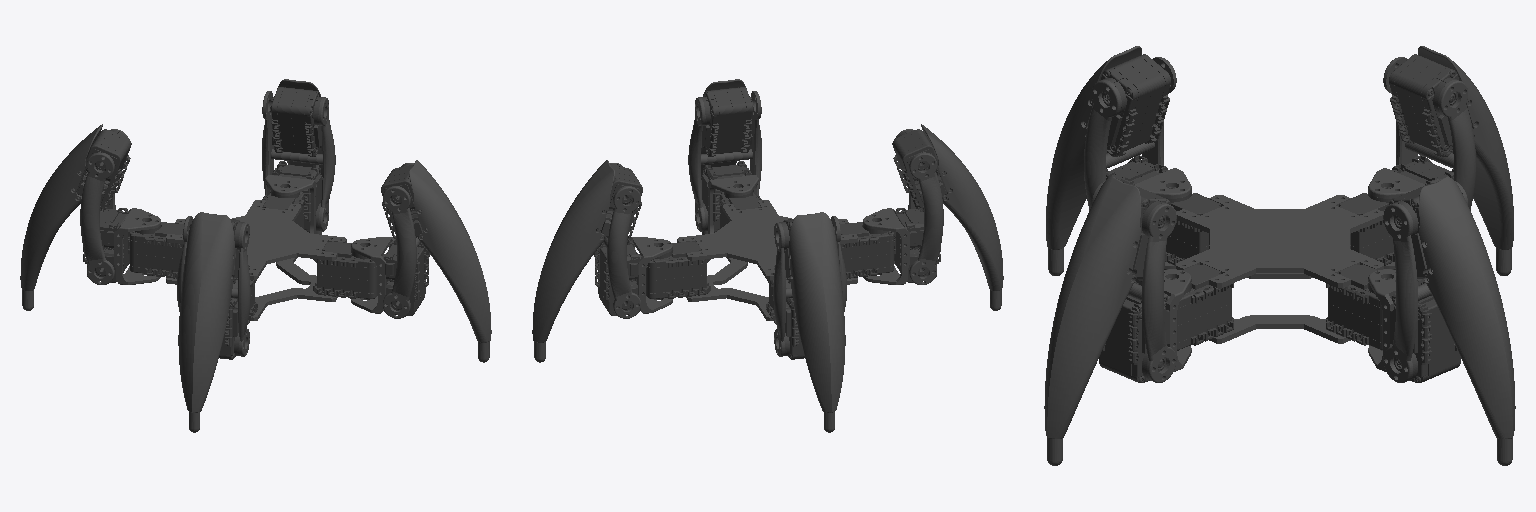
--- Render facts (derived) ---
Views: 3 orthographic renders of the robot side by side, from view 1: azimuth 30°, elevation 25°; view 2: azimuth 150°, elevation 25°; view 3: azimuth 270°, elevation 25°.
Robot: quadrapod — 30 links, 29 joints (12 revolute, 17 fixed); root link base_link; default pose: all joints at 0.
Links seen in each view (by area): view 1: tibia_v3_4, tibia_v3_3, tibia_v3_2, top_plate_v3_1, ax12a_v2_3, ax12a_v2_7, femur_v3_2, femur_v3_1, femur_v3_3, ax12a_v2_4, femur_v3_4, ax12a_v2_6 (+10 smaller); view 2: tibia_v3_2, tibia_v3_1, tibia_v3_4, top_plate_v3_1, ax12a_v2_9, ax12a_v2_1, femur_v3_4, femur_v3_3, femur_v3_1, ax12a_v2_10, femur_v3_2, ax12a_v2_12 (+10 smaller); view 3: tibia_v3_3, tibia_v3_1, top_plate_v3_1, tibia_v3_4, tibia_v3_2, ax12a_v2_6, ax12a_v2_12, femur_v3_1, femur_v3_3, femur_v3_2, femur_v3_4, ax12a_v2_1 (+14 smaller).
Boxes of the visible links, left/top/right/bottom form: tibia_v3_4: left=178, top=212, right=234, bottom=432; tibia_v3_3: left=409, top=160, right=491, bottom=362; tibia_v3_2: left=20, top=124, right=102, bottom=310; top_plate_v3_1: left=166, top=200, right=346, bottom=279; ax12a_v2_3: left=270, top=87, right=322, bottom=156; ax12a_v2_7: left=313, top=241, right=377, bottom=298; femur_v3_2: left=80, top=129, right=128, bottom=284; femur_v3_1: left=262, top=91, right=335, bottom=231; femur_v3_3: left=383, top=163, right=429, bottom=318; ax12a_v2_4: left=130, top=221, right=183, bottom=278; femur_v3_4: left=177, top=216, right=250, bottom=356; ax12a_v2_6: left=73, top=129, right=131, bottom=208; tibia_v3_2: left=789, top=212, right=845, bottom=432; tibia_v3_1: left=532, top=160, right=614, bottom=362; tibia_v3_4: left=921, top=124, right=1003, bottom=310; top_plate_v3_1: left=677, top=200, right=857, bottom=279; ax12a_v2_9: left=701, top=87, right=753, bottom=156; ax12a_v2_1: left=646, top=241, right=710, bottom=298; femur_v3_4: left=895, top=129, right=943, bottom=284; femur_v3_3: left=688, top=91, right=761, bottom=231; femur_v3_1: left=594, top=163, right=640, bottom=318; ax12a_v2_10: left=840, top=221, right=893, bottom=278; femur_v3_2: left=773, top=216, right=846, bottom=356; ax12a_v2_12: left=892, top=129, right=950, bottom=208; tibia_v3_3: left=1044, top=177, right=1140, bottom=465; tibia_v3_1: left=1419, top=177, right=1515, bottom=465; top_plate_v3_1: left=1176, top=195, right=1383, bottom=287; tibia_v3_4: left=1046, top=46, right=1141, bottom=275; tibia_v3_2: left=1418, top=46, right=1513, bottom=275; ax12a_v2_6: left=1389, top=54, right=1474, bottom=156; ax12a_v2_12: left=1085, top=54, right=1170, bottom=156; femur_v3_1: left=1383, top=181, right=1467, bottom=382; femur_v3_3: left=1092, top=181, right=1176, bottom=382; femur_v3_2: left=1383, top=57, right=1475, bottom=210; femur_v3_4: left=1084, top=57, right=1176, bottom=210; ax12a_v2_1: left=1326, top=264, right=1391, bottom=349.
Bounding box of the posed robot: 0.2691 × 0.2698 × 0.1607 m (x, y, z).
26 mesh visuals loaded from 26 distinct referenced files (26 binary STL).

The robot description file, URDF, robot "quadrapod":
<?xml version="1.0" ?>
<!-- =================================================================================== -->
<!-- |    This document was autogenerated by xacro from quadrapod.xacro                | -->
<!-- |    EDITING THIS FILE BY HAND IS NOT RECOMMENDED                                 | -->
<!-- =================================================================================== -->
<robot name="quadrapod">
  <material name="silver_default">
    <color rgba="0.700 0.700 0.700 1.000"/>
  </material>
  <material name="powder_coat_dark_grey">
    <color rgba="0.34901960784313724 0.34901960784313724 0.34901960784313724 1.0"/>
  </material>
  <material name="glossy_black">
    <color rgba="0.3137254901960784 0.3137254901960784 0.3137254901960784 1.0"/>
  </material>
  <material name="abs_white">
    <color rgba="0.9647058823529412 0.9647058823529412 0.9529411764705882 1.0"/>
  </material>
  <transmission name="coxa1_tran">
    <type>transmission_interface/SimpleTransmission</type>
    <joint name="coxa1">
      <hardwareInterface>hardware_interface/EffortJointInterface</hardwareInterface>
    </joint>
    <actuator name="coxa1_actr">
      <hardwareInterface>hardware_interface/EffortJointInterface</hardwareInterface>
      <mechanicalReduction>1</mechanicalReduction>
    </actuator>
  </transmission>
  <transmission name="femur1_tran">
    <type>transmission_interface/SimpleTransmission</type>
    <joint name="femur1">
      <hardwareInterface>hardware_interface/EffortJointInterface</hardwareInterface>
    </joint>
    <actuator name="femur1_actr">
      <hardwareInterface>hardware_interface/EffortJointInterface</hardwareInterface>
      <mechanicalReduction>1</mechanicalReduction>
    </actuator>
  </transmission>
  <transmission name="tibia1_tran">
    <type>transmission_interface/SimpleTransmission</type>
    <joint name="tibia1">
      <hardwareInterface>hardware_interface/EffortJointInterface</hardwareInterface>
    </joint>
    <actuator name="tibia1_actr">
      <hardwareInterface>hardware_interface/EffortJointInterface</hardwareInterface>
      <mechanicalReduction>1</mechanicalReduction>
    </actuator>
  </transmission>
  <transmission name="coxa2_tran">
    <type>transmission_interface/SimpleTransmission</type>
    <joint name="coxa2">
      <hardwareInterface>hardware_interface/EffortJointInterface</hardwareInterface>
    </joint>
    <actuator name="coxa2_actr">
      <hardwareInterface>hardware_interface/EffortJointInterface</hardwareInterface>
      <mechanicalReduction>1</mechanicalReduction>
    </actuator>
  </transmission>
  <transmission name="femur2_tran">
    <type>transmission_interface/SimpleTransmission</type>
    <joint name="femur2">
      <hardwareInterface>hardware_interface/EffortJointInterface</hardwareInterface>
    </joint>
    <actuator name="femur2_actr">
      <hardwareInterface>hardware_interface/EffortJointInterface</hardwareInterface>
      <mechanicalReduction>1</mechanicalReduction>
    </actuator>
  </transmission>
  <transmission name="tibia2_tran">
    <type>transmission_interface/SimpleTransmission</type>
    <joint name="tibia2">
      <hardwareInterface>hardware_interface/EffortJointInterface</hardwareInterface>
    </joint>
    <actuator name="tibia2_actr">
      <hardwareInterface>hardware_interface/EffortJointInterface</hardwareInterface>
      <mechanicalReduction>1</mechanicalReduction>
    </actuator>
  </transmission>
  <transmission name="coxa3_tran">
    <type>transmission_interface/SimpleTransmission</type>
    <joint name="coxa3">
      <hardwareInterface>hardware_interface/EffortJointInterface</hardwareInterface>
    </joint>
    <actuator name="coxa3_actr">
      <hardwareInterface>hardware_interface/EffortJointInterface</hardwareInterface>
      <mechanicalReduction>1</mechanicalReduction>
    </actuator>
  </transmission>
  <transmission name="femur3_tran">
    <type>transmission_interface/SimpleTransmission</type>
    <joint name="femur3">
      <hardwareInterface>hardware_interface/EffortJointInterface</hardwareInterface>
    </joint>
    <actuator name="femur3_actr">
      <hardwareInterface>hardware_interface/EffortJointInterface</hardwareInterface>
      <mechanicalReduction>1</mechanicalReduction>
    </actuator>
  </transmission>
  <transmission name="tibia3_tran">
    <type>transmission_interface/SimpleTransmission</type>
    <joint name="tibia3">
      <hardwareInterface>hardware_interface/EffortJointInterface</hardwareInterface>
    </joint>
    <actuator name="tibia3_actr">
      <hardwareInterface>hardware_interface/EffortJointInterface</hardwareInterface>
      <mechanicalReduction>1</mechanicalReduction>
    </actuator>
  </transmission>
  <transmission name="coxa4_tran">
    <type>transmission_interface/SimpleTransmission</type>
    <joint name="coxa4">
      <hardwareInterface>hardware_interface/EffortJointInterface</hardwareInterface>
    </joint>
    <actuator name="coxa4_actr">
      <hardwareInterface>hardware_interface/EffortJointInterface</hardwareInterface>
      <mechanicalReduction>1</mechanicalReduction>
    </actuator>
  </transmission>
  <transmission name="femur4_tran">
    <type>transmission_interface/SimpleTransmission</type>
    <joint name="femur4">
      <hardwareInterface>hardware_interface/EffortJointInterface</hardwareInterface>
    </joint>
    <actuator name="femur4_actr">
      <hardwareInterface>hardware_interface/EffortJointInterface</hardwareInterface>
      <mechanicalReduction>1</mechanicalReduction>
    </actuator>
  </transmission>
  <transmission name="tibia4_tran">
    <type>transmission_interface/SimpleTransmission</type>
    <joint name="tibia4">
      <hardwareInterface>hardware_interface/EffortJointInterface</hardwareInterface>
    </joint>
    <actuator name="tibia4_actr">
      <hardwareInterface>hardware_interface/EffortJointInterface</hardwareInterface>
      <mechanicalReduction>1</mechanicalReduction>
    </actuator>
  </transmission>
  <!-- updated from fusion2urdf -->
  <gazebo>
    <plugin filename="libgazebo_ros_control.so" name="gazebo_ros_control">
      <robotNamespace>/quadrapod</robotNamespace>
    </plugin>
  </gazebo>
  <gazebo reference="base_link">
    <material>Gazebo/Silver</material>
    <mu1>0.2</mu1>
    <mu2>0.2</mu2>
    <selfCollide>true</selfCollide>
    <gravity>true</gravity>
  </gazebo>
  <gazebo reference="ax12a_v2_1">
    <material>Gazebo/Silver</material>
    <mu1>0.2</mu1>
    <mu2>0.2</mu2>
    <selfCollide>true</selfCollide>
  </gazebo>
  <gazebo reference="top_plate_v3_1">
    <material>Gazebo/Silver</material>
    <mu1>0.2</mu1>
    <mu2>0.2</mu2>
    <selfCollide>true</selfCollide>
  </gazebo>
  <gazebo reference="coxa_v3_1">
    <material>Gazebo/Silver</material>
    <mu1>0.2</mu1>
    <mu2>0.2</mu2>
    <selfCollide>true</selfCollide>
  </gazebo>
  <gazebo reference="ax12a_v2_2">
    <material>Gazebo/Silver</material>
    <mu1>0.2</mu1>
    <mu2>0.2</mu2>
    <selfCollide>true</selfCollide>
  </gazebo>
  <gazebo reference="femur_v3_1">
    <material>Gazebo/Silver</material>
    <mu1>0.2</mu1>
    <mu2>0.2</mu2>
    <selfCollide>true</selfCollide>
  </gazebo>
  <gazebo reference="ax12a_v2_3">
    <material>Gazebo/Silver</material>
    <mu1>0.2</mu1>
    <mu2>0.2</mu2>
    <selfCollide>true</selfCollide>
  </gazebo>
  <gazebo reference="tibia_v3_1">
    <material>Gazebo/Silver</material>
    <mu1>0.2</mu1>
    <mu2>0.2</mu2>
    <selfCollide>true</selfCollide>
  </gazebo>
  <gazebo reference="ax12a_v2_4">
    <material>Gazebo/Silver</material>
    <mu1>0.2</mu1>
    <mu2>0.2</mu2>
    <selfCollide>true</selfCollide>
  </gazebo>
  <gazebo reference="coxa_v3_2">
    <material>Gazebo/Silver</material>
    <mu1>0.2</mu1>
    <mu2>0.2</mu2>
    <selfCollide>true</selfCollide>
  </gazebo>
  <gazebo reference="ax12a_v2_5">
    <material>Gazebo/Silver</material>
    <mu1>0.2</mu1>
    <mu2>0.2</mu2>
    <selfCollide>true</selfCollide>
  </gazebo>
  <gazebo reference="femur_v3_2">
    <material>Gazebo/Silver</material>
    <mu1>0.2</mu1>
    <mu2>0.2</mu2>
    <selfCollide>true</selfCollide>
  </gazebo>
  <gazebo reference="ax12a_v2_6">
    <material>Gazebo/Silver</material>
    <mu1>0.2</mu1>
    <mu2>0.2</mu2>
    <selfCollide>true</selfCollide>
  </gazebo>
  <gazebo reference="tibia_v3_2">
    <material>Gazebo/Silver</material>
    <mu1>0.2</mu1>
    <mu2>0.2</mu2>
    <selfCollide>true</selfCollide>
  </gazebo>
  <gazebo reference="ax12a_v2_7">
    <material>Gazebo/Silver</material>
    <mu1>0.2</mu1>
    <mu2>0.2</mu2>
    <selfCollide>true</selfCollide>
  </gazebo>
  <gazebo reference="coxa_v3_3">
    <material>Gazebo/Silver</material>
    <mu1>0.2</mu1>
    <mu2>0.2</mu2>
    <selfCollide>true</selfCollide>
  </gazebo>
  <gazebo reference="ax12a_v2_8">
    <material>Gazebo/Silver</material>
    <mu1>0.2</mu1>
    <mu2>0.2</mu2>
    <selfCollide>true</selfCollide>
  </gazebo>
  <gazebo reference="femur_v3_3">
    <material>Gazebo/Silver</material>
    <mu1>0.2</mu1>
    <mu2>0.2</mu2>
    <selfCollide>true</selfCollide>
  </gazebo>
  <gazebo reference="ax12a_v2_9">
    <material>Gazebo/Silver</material>
    <mu1>0.2</mu1>
    <mu2>0.2</mu2>
    <selfCollide>true</selfCollide>
  </gazebo>
  <gazebo reference="tibia_v3_3">
    <material>Gazebo/Silver</material>
    <mu1>0.2</mu1>
    <mu2>0.2</mu2>
    <selfCollide>true</selfCollide>
  </gazebo>
  <gazebo reference="ax12a_v2_10">
    <material>Gazebo/Silver</material>
    <mu1>0.2</mu1>
    <mu2>0.2</mu2>
    <selfCollide>true</selfCollide>
  </gazebo>
  <gazebo reference="coxa_v3_4">
    <material>Gazebo/Silver</material>
    <mu1>0.2</mu1>
    <mu2>0.2</mu2>
    <selfCollide>true</selfCollide>
  </gazebo>
  <gazebo reference="ax12a_v2_11">
    <material>Gazebo/Silver</material>
    <mu1>0.2</mu1>
    <mu2>0.2</mu2>
    <selfCollide>true</selfCollide>
  </gazebo>
  <gazebo reference="femur_v3_4">
    <material>Gazebo/Silver</material>
    <mu1>0.2</mu1>
    <mu2>0.2</mu2>
    <selfCollide>true</selfCollide>
  </gazebo>
  <gazebo reference="ax12a_v2_12">
    <material>Gazebo/Silver</material>
    <mu1>0.2</mu1>
    <mu2>0.2</mu2>
    <selfCollide>true</selfCollide>
  </gazebo>
  <gazebo reference="tibia_v3_4">
    <material>Gazebo/Silver</material>
    <mu1>0.2</mu1>
    <mu2>0.2</mu2>
    <selfCollide>true</selfCollide>
  </gazebo>
  <!-- Used for fixing robot to Gazebo 'base_link'

<link name="world"/>

<joint name="fixed" type="fixed">
  <origin rpy="0 0 0" xyz="0.0 0.0 0.5"/>
  <parent link="world"/>
  <child link="base_link"/>
</joint>

-->
  <!-- tibia tip end effector -->
  <link name="tibia_eef_1"/>
  <joint name="dummy_eef1" type="fixed">
    <parent link="tibia_v3_1"/>
    <child link="tibia_eef_1"/>
    <origin rpy="0 0 0" xyz="0.019893 0.043227 -0.108724"/>
  </joint>
  <link name="tibia_eef_2"/>
  <joint name="dummy_eef2" type="fixed">
    <parent link="tibia_v3_2"/>
    <child link="tibia_eef_2"/>
    <origin rpy="0 0 0" xyz="-0.043227 0.019893 -0.108724"/>
  </joint>
  <link name="tibia_eef_3"/>
  <joint name="dummy_eef3" type="fixed">
    <parent link="tibia_v3_3"/>
    <child link="tibia_eef_3"/>
    <origin rpy="0 0 0" xyz="0.019893 -0.043227 -0.108724"/>
  </joint>
  <link name="tibia_eef_4"/>
  <joint name="dummy_eef4" type="fixed">
    <parent link="tibia_v3_4"/>
    <child link="tibia_eef_4"/>
    <origin rpy="0 0 0" xyz="-0.043227 -0.019893 -0.108724"/>
  </joint>
  <!-- end of tibia tip end effector -->
  <link name="base_link">
    <inertial>
      <origin rpy="0 0 0" xyz="-3.131527398141724e-15 6.504656316614858e-17 0.0015874999999999993"/>
      <mass value="0.016210624643989514"/>
      <inertia ixx="1.8e-05" ixy="0.0" ixz="0.0" iyy="1.8e-05" iyz="-0.0" izz="3.6e-05"/>
    </inertial>
    <visual>
      <origin rpy="0 0 0" xyz="0 0 0"/>
      <geometry>
        <mesh filename="package://quadrapod_description/meshes/base_link.stl" scale="0.001 0.001 0.001"/>
      </geometry>
      <material name="powder_coat_dark_grey"/>
    </visual>
    <collision>
      <origin rpy="0 0 0" xyz="0 0 0"/>
      <geometry>
        <mesh filename="package://quadrapod_description/meshes/base_link.stl" scale="0.001 0.001 0.001"/>
      </geometry>
    </collision>
  </link>
  <link name="ax12a_v2_1">
    <inertial>
      <origin rpy="0 0 0" xyz="0.003358172989370682 0.02244916197825437 0.017128126001392945"/>
      <mass value="0.04556894168228744"/>
      <inertia ixx="1e-05" ixy="-3e-06" ixz="-0.0" iyy="1e-05" iyz="-0.0" izz="1.1e-05"/>
    </inertial>
    <visual>
      <origin rpy="0 0 0" xyz="-0.049405 -0.030313 -0.003175"/>
      <geometry>
        <mesh filename="package://quadrapod_description/meshes/ax12a_v2_1.stl" scale="0.001 0.001 0.001"/>
      </geometry>
      <material name="glossy_black"/>
    </visual>
    <collision>
      <origin rpy="0 0 0" xyz="-0.049405 -0.030313 -0.003175"/>
      <geometry>
        <mesh filename="package://quadrapod_description/meshes/ax12a_v2_1.stl" scale="0.001 0.001 0.001"/>
      </geometry>
    </collision>
  </link>
  <link name="top_plate_v3_1">
    <inertial>
      <origin rpy="0 0 0" xyz="-0.04940500000000193 -0.030313000000000093 0.0015874999999999986"/>
      <mass value="0.02791137131716288"/>
      <inertia ixx="2.2e-05" ixy="-0.0" ixz="-0.0" iyy="2.2e-05" iyz="-0.0" izz="4.3e-05"/>
    </inertial>
    <visual>
      <origin rpy="0 0 0" xyz="-0.049405 -0.030313 -0.035175"/>
      <geometry>
        <mesh filename="package://quadrapod_description/meshes/top_plate_v3_1.stl" scale="0.001 0.001 0.001"/>
      </geometry>
      <material name="powder_coat_dark_grey"/>
    </visual>
    <collision>
      <origin rpy="0 0 0" xyz="-0.049405 -0.030313 -0.035175"/>
      <geometry>
        <mesh filename="package://quadrapod_description/meshes/top_plate_v3_1.stl" scale="0.001 0.001 0.001"/>
      </geometry>
    </collision>
  </link>
  <link name="coxa_v3_1">
    <inertial>
      <origin rpy="0 0 0" xyz="0.006307697166824548 0.006307697166780014 -0.02156473485261959"/>
      <mass value="0.0059876100339638"/>
      <inertia ixx="3e-06" ixy="0.0" ixz="-0.0" iyy="3e-06" iyz="-0.0" izz="1e-06"/>
    </inertial>
    <visual>
      <origin rpy="0 0 0" xyz="-0.061602 -0.061602 -0.040175"/>
      <geometry>
        <mesh filename="package://quadrapod_description/meshes/coxa_v3_1.stl" scale="0.001 0.001 0.001"/>
      </geometry>
      <material name="powder_coat_dark_grey"/>
    </visual>
    <collision>
      <origin rpy="0 0 0" xyz="-0.061602 -0.061602 -0.040175"/>
      <geometry>
        <mesh filename="package://quadrapod_description/meshes/coxa_v3_1.stl" scale="0.001 0.001 0.001"/>
      </geometry>
    </collision>
  </link>
  <link name="ax12a_v2_2">
    <inertial>
      <origin rpy="0 0 0" xyz="-0.0009703775779082852 0.020061211330856032 0.005750862552334106"/>
      <mass value="0.04556894168228744"/>
      <inertia ixx="1.2e-05" ixy="1e-06" ixz="0.0" iyy="1.2e-05" iyz="-0.0" izz="7e-06"/>
    </inertial>
    <visual>
      <origin rpy="0 0 0" xyz="-0.08529 -0.062663 -0.01205"/>
      <geometry>
        <mesh filename="package://quadrapod_description/meshes/ax12a_v2_2.stl" scale="0.001 0.001 0.001"/>
      </geometry>
      <material name="glossy_black"/>
    </visual>
    <collision>
      <origin rpy="0 0 0" xyz="-0.08529 -0.062663 -0.01205"/>
      <geometry>
        <mesh filename="package://quadrapod_description/meshes/ax12a_v2_2.stl" scale="0.001 0.001 0.001"/>
      </geometry>
    </collision>
  </link>
  <link name="femur_v3_1">
    <inertial>
      <origin rpy="0 0 0" xyz="-0.010665286346567868 0.019022521708455142 0.045000612902674215"/>
      <mass value="0.017665404788512855"/>
      <inertia ixx="1.6e-05" ixy="4e-06" ixz="0.0" iyy="1.6e-05" iyz="0.0" izz="9e-06"/>
    </inertial>
    <visual>
      <origin rpy="0 0 0" xyz="-0.098372 -0.068673 -0.0053"/>
      <geometry>
        <mesh filename="package://quadrapod_description/meshes/femur_v3_1.stl" scale="0.001 0.001 0.001"/>
      </geometry>
      <material name="powder_coat_dark_grey"/>
    </visual>
    <collision>
      <origin rpy="0 0 0" xyz="-0.098372 -0.068673 -0.0053"/>
      <geometry>
        <mesh filename="package://quadrapod_description/meshes/femur_v3_1.stl" scale="0.001 0.001 0.001"/>
      </geometry>
    </collision>
  </link>
  <link name="ax12a_v2_3">
    <inertial>
      <origin rpy="0 0 0" xyz="-0.011246595732016501 0.016856993176747714 -0.011854636830040899"/>
      <mass value="0.04556894168228744"/>
      <inertia ixx="1.2e-05" ixy="1e-06" ixz="1e-06" iyy="1.2e-05" iyz="1e-06" izz="8e-06"/>
    </inertial>
    <visual>
      <origin rpy="0 0 0" xyz="-0.098372 -0.068673 -0.0953"/>
      <geometry>
        <mesh filename="package://quadrapod_description/meshes/ax12a_v2_3.stl" scale="0.001 0.001 0.001"/>
      </geometry>
      <material name="glossy_black"/>
    </visual>
    <collision>
      <origin rpy="0 0 0" xyz="-0.098372 -0.068673 -0.0953"/>
      <geometry>
        <mesh filename="package://quadrapod_description/meshes/ax12a_v2_3.stl" scale="0.001 0.001 0.001"/>
      </geometry>
    </collision>
  </link>
  <link name="tibia_v3_1">
    <inertial>
      <origin rpy="0 0 0" xyz="0.0029676224397089113 0.02630171402651535 -0.016467855089459284"/>
      <mass value="0.07868500125623075"/>
      <inertia ixx="9e-05" ixy="-5e-06" ixz="2.2e-05" iyy="9e-05" iyz="2.2e-05" izz="2.2e-05"/>
    </inertial>
    <visual>
      <origin rpy="0 0 0" xyz="-0.108278 -0.085651 -0.063699"/>
      <geometry>
        <mesh filename="package://quadrapod_description/meshes/tibia_v3_1.stl" scale="0.001 0.001 0.001"/>
      </geometry>
      <material name="powder_coat_dark_grey"/>
    </visual>
    <collision>
      <origin rpy="0 0 0" xyz="-0.108278 -0.085651 -0.063699"/>
      <geometry>
        <mesh filename="package://quadrapod_description/meshes/tibia_v3_1.stl" scale="0.001 0.001 0.001"/>
      </geometry>
    </collision>
  </link>
  <link name="ax12a_v2_4">
    <inertial>
      <origin rpy="0 0 0" xyz="-0.022449161978254396 0.003358172989370682 0.017128126001392973"/>
      <mass value="0.04556894168228744"/>
      <inertia ixx="1e-05" ixy="3e-06" ixz="0.0" iyy="1e-05" iyz="-0.0" izz="1.1e-05"/>
    </inertial>
    <visual>
      <origin rpy="0 0 0" xyz="0.030313 -0.049405 -0.003175"/>
      <geometry>
        <mesh filename="package://quadrapod_description/meshes/ax12a_v2_4.stl" scale="0.001 0.001 0.001"/>
      </geometry>
      <material name="glossy_black"/>
    </visual>
    <collision>
      <origin rpy="0 0 0" xyz="0.030313 -0.049405 -0.003175"/>
      <geometry>
        <mesh filename="package://quadrapod_description/meshes/ax12a_v2_4.stl" scale="0.001 0.001 0.001"/>
      </geometry>
    </collision>
  </link>
  <link name="coxa_v3_2">
    <inertial>
      <origin rpy="0 0 0" xyz="-0.006307697166780014 0.006307697166824548 -0.021564734852619536"/>
      <mass value="0.0059876100339638"/>
      <inertia ixx="3e-06" ixy="-0.0" ixz="0.0" iyy="3e-06" iyz="-0.0" izz="1e-06"/>
    </inertial>
    <visual>
      <origin rpy="0 0 0" xyz="0.061602 -0.061602 -0.040175"/>
      <geometry>
        <mesh filename="package://quadrapod_description/meshes/coxa_v3_2.stl" scale="0.001 0.001 0.001"/>
      </geometry>
      <material name="powder_coat_dark_grey"/>
    </visual>
    <collision>
      <origin rpy="0 0 0" xyz="0.061602 -0.061602 -0.040175"/>
      <geometry>
        <mesh filename="package://quadrapod_description/meshes/coxa_v3_2.stl" scale="0.001 0.001 0.001"/>
      </geometry>
    </collision>
  </link>
  <link name="ax12a_v2_5">
    <inertial>
      <origin rpy="0 0 0" xyz="-0.020061211330856102 -0.0009703775779084656 0.005750862552334151"/>
      <mass value="0.04556894168228744"/>
      <inertia ixx="1.2e-05" ixy="-1e-06" ixz="0.0" iyy="1.2e-05" iyz="0.0" izz="7e-06"/>
    </inertial>
    <visual>
      <origin rpy="0 0 0" xyz="0.062663 -0.08529 -0.01205"/>
      <geometry>
        <mesh filename="package://quadrapod_description/meshes/ax12a_v2_5.stl" scale="0.001 0.001 0.001"/>
      </geometry>
      <material name="glossy_black"/>
    </visual>
    <collision>
      <origin rpy="0 0 0" xyz="0.062663 -0.08529 -0.01205"/>
      <geometry>
        <mesh filename="package://quadrapod_description/meshes/ax12a_v2_5.stl" scale="0.001 0.001 0.001"/>
      </geometry>
    </collision>
  </link>
  <link name="femur_v3_2">
    <inertial>
      <origin rpy="0 0 0" xyz="-0.01902252170845524 -0.010665286346567895 0.045000612902674424"/>
      <mass value="0.017665404788512855"/>
      <inertia ixx="1.6e-05" ixy="-4e-06" ixz="-0.0" iyy="1.6e-05" iyz="0.0" izz="9e-06"/>
    </inertial>
    <visual>
      <origin rpy="0 0 0" xyz="0.068673 -0.098372 -0.0053"/>
      <geometry>
        <mesh filename="package://quadrapod_description/meshes/femur_v3_2.stl" scale="0.001 0.001 0.001"/>
      </geometry>
      <material name="powder_coat_dark_grey"/>
    </visual>
    <collision>
      <origin rpy="0 0 0" xyz="0.068673 -0.098372 -0.0053"/>
      <geometry>
        <mesh filename="package://quadrapod_description/meshes/femur_v3_2.stl" scale="0.001 0.001 0.001"/>
      </geometry>
    </collision>
  </link>
  <link name="ax12a_v2_6">
    <inertial>
      <origin rpy="0 0 0" xyz="-0.01685699317674802 -0.011246595732016737 -0.011854636830040413"/>
      <mass value="0.04556894168228744"/>
      <inertia ixx="1.2e-05" ixy="-1e-06" ixz="-1e-06" iyy="1.2e-05" iyz="1e-06" izz="8e-06"/>
    </inertial>
    <visual>
      <origin rpy="0 0 0" xyz="0.068673 -0.098372 -0.0953"/>
      <geometry>
        <mesh filename="package://quadrapod_description/meshes/ax12a_v2_6.stl" scale="0.001 0.001 0.001"/>
      </geometry>
      <material name="glossy_black"/>
    </visual>
    <collision>
      <origin rpy="0 0 0" xyz="0.068673 -0.098372 -0.0953"/>
      <geometry>
        <mesh filename="package://quadrapod_description/meshes/ax12a_v2_6.stl" scale="0.001 0.001 0.001"/>
      </geometry>
    </collision>
  </link>
  <link name="tibia_v3_2">
    <inertial>
      <origin rpy="0 0 0" xyz="-0.026301714026515224 0.002967622439708814 -0.016467855089458826"/>
      <mass value="0.07868500125623075"/>
      <inertia ixx="9e-05" ixy="5e-06" ixz="-2.2e-05" iyy="9e-05" iyz="2.2e-05" izz="2.2e-05"/>
    </inertial>
    <visual>
      <origin rpy="0 0 0" xyz="0.085651 -0.108278 -0.063699"/>
      <geometry>
        <mesh filename="package://quadrapod_description/meshes/tibia_v3_2.stl" scale="0.001 0.001 0.001"/>
      </geometry>
      <material name="powder_coat_dark_grey"/>
    </visual>
    <collision>
      <origin rpy="0 0 0" xyz="0.085651 -0.108278 -0.063699"/>
      <geometry>
        <mesh filename="package://quadrapod_description/meshes/tibia_v3_2.stl" scale="0.001 0.001 0.001"/>
      </geometry>
    </collision>
  </link>
  <link name="ax12a_v2_7">
    <inertial>
      <origin rpy="0 0 0" xyz="0.003357161978254433 -0.022450172989370666 0.017128126001392973"/>
      <mass value="0.04556894168228744"/>
      <inertia ixx="1e-05" ixy="3e-06" ixz="-0.0" iyy="1e-05" iyz="0.0" izz="1.1e-05"/>
    </inertial>
    <visual>
      <origin rpy="0 0 0" xyz="-0.049405 0.030313 -0.003175"/>
      <geometry>
        <mesh filename="package://quadrapod_description/meshes/ax12a_v2_7.stl" scale="0.001 0.001 0.001"/>
      </geometry>
      <material name="glossy_black"/>
    </visual>
    <collision>
      <origin rpy="0 0 0" xyz="-0.049405 0.030313 -0.003175"/>
      <geometry>
        <mesh filename="package://quadrapod_description/meshes/ax12a_v2_7.stl" scale="0.001 0.001 0.001"/>
      </geometry>
    </collision>
  </link>
  <link name="coxa_v3_3">
    <inertial>
      <origin rpy="0 0 0" xyz="0.006307697166780223 -0.006307697166824687 -0.021564734852620168"/>
      <mass value="0.0059876100339638"/>
      <inertia ixx="3e-06" ixy="-0.0" ixz="-0.0" iyy="3e-06" iyz="0.0" izz="1e-06"/>
    </inertial>
    <visual>
      <origin rpy="0 0 0" xyz="-0.061602 0.061602 -0.040175"/>
      <geometry>
        <mesh filename="package://quadrapod_description/meshes/coxa_v3_3.stl" scale="0.001 0.001 0.001"/>
      </geometry>
      <material name="powder_coat_dark_grey"/>
    </visual>
    <collision>
      <origin rpy="0 0 0" xyz="-0.061602 0.061602 -0.040175"/>
      <geometry>
        <mesh filename="package://quadrapod_description/meshes/coxa_v3_3.stl" scale="0.001 0.001 0.001"/>
      </geometry>
    </collision>
  </link>
  <link name="ax12a_v2_8">
    <inertial>
      <origin rpy="0 0 0" xyz="-0.0009693665667916268 -0.02006222234197265 0.005750862552333385"/>
      <mass value="0.04556894168228744"/>
      <inertia ixx="1.2e-05" ixy="-1e-06" ixz="0.0" iyy="1.2e-05" iyz="0.0" izz="7e-06"/>
    </inertial>
    <visual>
      <origin rpy="0 0 0" xyz="-0.08529 0.062663 -0.01205"/>
      <geometry>
        <mesh filename="package://quadrapod_description/meshes/ax12a_v2_8.stl" scale="0.001 0.001 0.001"/>
      </geometry>
      <material name="glossy_black"/>
    </visual>
    <collision>
      <origin rpy="0 0 0" xyz="-0.08529 0.062663 -0.01205"/>
      <geometry>
        <mesh filename="package://quadrapod_description/meshes/ax12a_v2_8.stl" scale="0.001 0.001 0.001"/>
      </geometry>
    </collision>
  </link>
  <link name="femur_v3_3">
    <inertial>
      <origin rpy="0 0 0" xyz="-0.010676478291544167 -0.0190337136534324 0.045000612902673424"/>
      <mass value="0.017665404788512855"/>
      <inertia ixx="1.6e-05" ixy="-4e-06" ixz="0.0" iyy="1.6e-05" iyz="-0.0" izz="9e-06"/>
    </inertial>
    <visual>
      <origin rpy="0 0 0" xyz="-0.098372 0.068673 -0.0053"/>
      <geometry>
        <mesh filename="package://quadrapod_description/meshes/femur_v3_3.stl" scale="0.001 0.001 0.001"/>
      </geometry>
      <material name="powder_coat_dark_grey"/>
    </visual>
    <collision>
      <origin rpy="0 0 0" xyz="-0.098372 0.068673 -0.0053"/>
      <geometry>
        <mesh filename="package://quadrapod_description/meshes/femur_v3_3.stl" scale="0.001 0.001 0.001"/>
      </geometry>
    </collision>
  </link>
  <link name="ax12a_v2_9">
    <inertial>
      <origin rpy="0 0 0" xyz="-0.011247554497774204 -0.016856034410990497 -0.011855090507679161"/>
      <mass value="0.04556894168228744"/>
      <inertia ixx="1.2e-05" ixy="-1e-06" ixz="1e-06" iyy="1.2e-05" iyz="-1e-06" izz="8e-06"/>
    </inertial>
    <visual>
      <origin rpy="0 0 0" xyz="-0.098372 0.068673 -0.0953"/>
      <geometry>
        <mesh filename="package://quadrapod_description/meshes/ax12a_v2_9.stl" scale="0.001 0.001 0.001"/>
      </geometry>
      <material name="glossy_black"/>
    </visual>
    <collision>
      <origin rpy="0 0 0" xyz="-0.098372 0.068673 -0.0953"/>
      <geometry>
        <mesh filename="package://quadrapod_description/meshes/ax12a_v2_9.stl" scale="0.001 0.001 0.001"/>
      </geometry>
    </collision>
  </link>
  <link name="tibia_v3_3">
    <inertial>
      <origin rpy="0 0 0" xyz="0.002967607245328463 -0.026301729220895284 -0.016467855089458597"/>
      <mass value="0.07868500125623075"/>
      <inertia ixx="9e-05" ixy="5e-06" ixz="2.2e-05" iyy="9e-05" iyz="-2.2e-05" izz="2.2e-05"/>
    </inertial>
    <visual>
      <origin rpy="0 0 0" xyz="-0.108278 0.085651 -0.063699"/>
      <geometry>
        <mesh filename="package://quadrapod_description/meshes/tibia_v3_3.stl" scale="0.001 0.001 0.001"/>
      </geometry>
      <material name="powder_coat_dark_grey"/>
    </visual>
    <collision>
      <origin rpy="0 0 0" xyz="-0.108278 0.085651 -0.063699"/>
      <geometry>
        <mesh filename="package://quadrapod_description/meshes/tibia_v3_3.stl" scale="0.001 0.001 0.001"/>
      </geometry>
    </collision>
  </link>
  <link name="ax12a_v2_10">
    <inertial>
      <origin rpy="0 0 0" xyz="-0.010960172989370826 -0.022273161978254432 0.017128126001392973"/>
      <mass value="0.04556894168228744"/>
      <inertia ixx="1e-05" ixy="-3e-06" ixz="0.0" iyy="1e-05" iyz="0.0" izz="1.1e-05"/>
    </inertial>
    <visual>
      <origin rpy="0 0 0" xyz="0.041803 0.030489 -0.003175"/>
      <geometry>
        <mesh filename="package://quadrapod_description/meshes/ax12a_v2_10.stl" scale="0.001 0.001 0.001"/>
      </geometry>
      <material name="glossy_black"/>
    </visual>
    <collision>
      <origin rpy="0 0 0" xyz="0.041803 0.030489 -0.003175"/>
      <geometry>
        <mesh filename="package://quadrapod_description/meshes/ax12a_v2_10.stl" scale="0.001 0.001 0.001"/>
      </geometry>
    </collision>
  </link>
  <link name="coxa_v3_4">
    <inertial>
      <origin rpy="0 0 0" xyz="-0.006307697166824798 -0.006307697166780028 -0.021564734852619477"/>
      <mass value="0.0059876100339638"/>
      <inertia ixx="3e-06" ixy="0.0" ixz="0.0" iyy="3e-06" iyz="0.0" izz="1e-06"/>
    </inertial>
    <visual>
      <origin rpy="0 0 0" xyz="0.061602 0.061602 -0.040175"/>
      <geometry>
        <mesh filename="package://quadrapod_description/meshes/coxa_v3_4.stl" scale="0.001 0.001 0.001"/>
      </geometry>
      <material name="powder_coat_dark_grey"/>
    </visual>
    <collision>
      <origin rpy="0 0 0" xyz="0.061602 0.061602 -0.040175"/>
      <geometry>
        <mesh filename="package://quadrapod_description/meshes/coxa_v3_4.stl" scale="0.001 0.001 0.001"/>
      </geometry>
    </collision>
  </link>
  <link name="ax12a_v2_11">
    <inertial>
      <origin rpy="0 0 0" xyz="-0.020062222341972455 0.0009693665667922235 0.005750862552334141"/>
      <mass value="0.04556894168228744"/>
      <inertia ixx="1.2e-05" ixy="1e-06" ixz="0.0" iyy="1.2e-05" iyz="-0.0" izz="7e-06"/>
    </inertial>
    <visual>
      <origin rpy="0 0 0" xyz="0.062663 0.08529 -0.01205"/>
      <geometry>
        <mesh filename="package://quadrapod_description/meshes/ax12a_v2_11.stl" scale="0.001 0.001 0.001"/>
      </geometry>
      <material name="glossy_black"/>
    </visual>
    <collision>
      <origin rpy="0 0 0" xyz="0.062663 0.08529 -0.01205"/>
      <geometry>
        <mesh filename="package://quadrapod_description/meshes/ax12a_v2_11.stl" scale="0.001 0.001 0.001"/>
      </geometry>
    </collision>
  </link>
  <link name="femur_v3_4">
    <inertial>
      <origin rpy="0 0 0" xyz="-0.01903371365343258 0.010676478291544986 0.045000612902674555"/>
      <mass value="0.017665404788512855"/>
      <inertia ixx="1.6e-05" ixy="4e-06" ixz="-0.0" iyy="1.6e-05" iyz="-0.0" izz="9e-06"/>
    </inertial>
    <visual>
      <origin rpy="0 0 0" xyz="0.068673 0.098372 -0.0053"/>
      <geometry>
        <mesh filename="package://quadrapod_description/meshes/femur_v3_4.stl" scale="0.001 0.001 0.001"/>
      </geometry>
      <material name="powder_coat_dark_grey"/>
    </visual>
    <collision>
      <origin rpy="0 0 0" xyz="0.068673 0.098372 -0.0053"/>
      <geometry>
        <mesh filename="package://quadrapod_description/meshes/femur_v3_4.stl" scale="0.001 0.001 0.001"/>
      </geometry>
    </collision>
  </link>
  <link name="ax12a_v2_12">
    <inertial>
      <origin rpy="0 0 0" xyz="-0.016856034410990803 0.011247554497773982 -0.011855090507679189"/>
      <mass value="0.04556894168228744"/>
      <inertia ixx="1.2e-05" ixy="1e-06" ixz="-1e-06" iyy="1.2e-05" iyz="-1e-06" izz="8e-06"/>
    </inertial>
    <visual>
      <origin rpy="0 0 0" xyz="0.068673 0.098372 -0.0953"/>
      <geometry>
        <mesh filename="package://quadrapod_description/meshes/ax12a_v2_12.stl" scale="0.001 0.001 0.001"/>
      </geometry>
      <material name="glossy_black"/>
    </visual>
    <collision>
      <origin rpy="0 0 0" xyz="0.068673 0.098372 -0.0953"/>
      <geometry>
        <mesh filename="package://quadrapod_description/meshes/ax12a_v2_12.stl" scale="0.001 0.001 0.001"/>
      </geometry>
    </collision>
  </link>
  <link name="tibia_v3_4">
    <inertial>
      <origin rpy="0 0 0" xyz="-0.026301729220895548 -0.0029676072453285463 -0.016467855089458798"/>
      <mass value="0.07868500125623075"/>
      <inertia ixx="9e-05" ixy="-5e-06" ixz="-2.2e-05" iyy="9e-05" iyz="-2.2e-05" izz="2.2e-05"/>
    </inertial>
    <visual>
      <origin rpy="0 0 0" xyz="0.085651 0.108278 -0.063699"/>
      <geometry>
        <mesh filename="package://quadrapod_description/meshes/tibia_v3_4.stl" scale="0.001 0.001 0.001"/>
      </geometry>
      <material name="powder_coat_dark_grey"/>
    </visual>
    <collision>
      <origin rpy="0 0 0" xyz="0.085651 0.108278 -0.063699"/>
      <geometry>
        <mesh filename="package://quadrapod_description/meshes/tibia_v3_4.stl" scale="0.001 0.001 0.001"/>
      </geometry>
    </collision>
  </link>
  <joint name="Rigid1" type="fixed">
    <origin rpy="0 0 0" xyz="0.049405 0.030313 0.003175"/>
    <parent link="base_link"/>
    <child link="ax12a_v2_1"/>
  </joint>
  <joint name="Rigid2" type="fixed">
    <origin rpy="0 0 0" xyz="0.0 0.0 0.032"/>
    <parent link="ax12a_v2_1"/>
    <child link="top_plate_v3_1"/>
  </joint>
  <joint name="coxa1" type="revolute">
    <origin rpy="0 0 0" xyz="0.012197 0.031289 0.037"/>
    <parent link="ax12a_v2_1"/>
    <child link="coxa_v3_1"/>
    <axis xyz="-0.0 -0.0 1.0"/>
    <limit effort="100" lower="-1.48353" upper="1.48353" velocity="100"/>
  </joint>
  <joint name="Rigid4" type="fixed">
    <origin rpy="0 0 0" xyz="0.023688 0.001061 -0.028125"/>
    <parent link="coxa_v3_1"/>
    <child link="ax12a_v2_2"/>
  </joint>
  <joint name="femur1" type="revolute">
    <origin rpy="0 0 0" xyz="0.013082 0.00601 -0.00675"/>
    <parent link="ax12a_v2_2"/>
    <child link="femur_v3_1"/>
    <axis xyz="0.707107 -0.707107 0.0"/>
    <limit effort="100" lower="-4.101524" upper="1.308997" velocity="100"/>
  </joint>
  <joint name="tibia1" type="revolute">
    <origin rpy="0 0 0" xyz="0.0 0.0 0.09"/>
    <parent link="femur_v3_1"/>
    <child link="ax12a_v2_3"/>
    <axis xyz="0.707107 -0.707107 0.0"/>
    <limit effort="100" lower="-0.174533" upper="5.148721" velocity="100"/>
  </joint>
  <joint name="Rigid7" type="fixed">
    <origin rpy="0 0 0" xyz="0.009906 0.016978 -0.031601"/>
    <parent link="ax12a_v2_3"/>
    <child link="tibia_v3_1"/>
  </joint>
  <joint name="Rigid8" type="fixed">
    <origin rpy="0 0 0" xyz="-0.030313 0.049405 0.003175"/>
    <parent link="base_link"/>
    <child link="ax12a_v2_4"/>
  </joint>
  <joint name="coxa2" type="revolute">
    <origin rpy="0 0 0" xyz="-0.031289 0.012197 0.037"/>
    <parent link="ax12a_v2_4"/>
    <child link="coxa_v3_2"/>
    <axis xyz="0.0 -0.0 1.0"/>
    <limit effort="100" lower="-1.48353" upper="1.48353" velocity="100"/>
  </joint>
  <joint name="Rigid10" type="fixed">
    <origin rpy="0 0 0" xyz="-0.001061 0.023688 -0.028125"/>
    <parent link="coxa_v3_2"/>
    <child link="ax12a_v2_5"/>
  </joint>
  <joint name="femur2" type="revolute">
    <origin rpy="0 0 0" xyz="-0.00601 0.013082 -0.00675"/>
    <parent link="ax12a_v2_5"/>
    <child link="femur_v3_2"/>
    <axis xyz="0.707107 0.707107 0.0"/>
    <limit effort="100" lower="-4.101524" upper="0.523599" velocity="100"/>
  </joint>
  <joint name="tibia2" type="revolute">
    <origin rpy="0 0 0" xyz="0.0 0.0 0.09"/>
    <parent link="femur_v3_2"/>
    <child link="ax12a_v2_6"/>
    <axis xyz="0.707107 0.707107 0.0"/>
    <limit effort="100" lower="-0.174533" upper="5.148721" velocity="100"/>
  </joint>
  <joint name="Rigid13" type="fixed">
    <origin rpy="0 0 0" xyz="-0.016978 0.009906 -0.031601"/>
    <parent link="ax12a_v2_6"/>
    <child link="tibia_v3_2"/>
  </joint>
  <joint name="Rigid14" type="fixed">
    <origin rpy="0 0 0" xyz="0.049405 -0.030313 0.003175"/>
    <parent link="base_link"/>
    <child link="ax12a_v2_7"/>
  </joint>
  <joint name="coxa3" type="revolute">
    <origin rpy="0 0 0" xyz="0.012197 -0.031289 0.037"/>
    <parent link="ax12a_v2_7"/>
    <child link="coxa_v3_3"/>
    <axis xyz="-0.0 0.0 1.0"/>
    <limit effort="100" lower="-1.48353" upper="1.48353" velocity="100"/>
  </joint>
  <joint name="Rigid16" type="fixed">
    <origin rpy="0 0 0" xyz="0.023688 -0.001061 -0.028125"/>
    <parent link="coxa_v3_3"/>
    <child link="ax12a_v2_8"/>
  </joint>
  <joint name="femur3" type="revolute">
    <origin rpy="0 0 0" xyz="0.013082 -0.00601 -0.00675"/>
    <parent link="ax12a_v2_8"/>
    <child link="femur_v3_3"/>
    <axis xyz="0.707107 0.707107 0.0"/>
    <limit effort="100" lower="-0.523599" upper="4.014257" velocity="100"/>
  </joint>
  <joint name="tibia3" type="revolute">
    <origin rpy="0 0 0" xyz="0.0 0.0 0.09"/>
    <parent link="femur_v3_3"/>
    <child link="ax12a_v2_9"/>
    <axis xyz="-0.707107 -0.707107 -0.0"/>
    <limit effort="100" lower="-0.174533" upper="5.148721" velocity="100"/>
  </joint>
  <joint name="Rigid19" type="fixed">
    <origin rpy="0 0 0" xyz="0.009906 -0.016978 -0.031601"/>
    <parent link="ax12a_v2_9"/>
    <child link="tibia_v3_3"/>
  </joint>
  <joint name="Rigid20" type="fixed">
    <origin rpy="0 0 0" xyz="-0.041803 -0.030489 0.003175"/>
    <parent link="base_link"/>
    <child link="ax12a_v2_10"/>
  </joint>
  <joint name="coxa4" type="revolute">
    <origin rpy="0 0 0" xyz="-0.019799 -0.031113 0.037"/>
    <parent link="ax12a_v2_10"/>
    <child link="coxa_v3_4"/>
    <axis xyz="0.0 0.0 1.0"/>
    <limit effort="100" lower="-1.48353" upper="1.48353" velocity="100"/>
  </joint>
  <joint name="Rigid22" type="fixed">
    <origin rpy="0 0 0" xyz="-0.001061 -0.023688 -0.028125"/>
    <parent link="coxa_v3_4"/>
    <child link="ax12a_v2_11"/>
  </joint>
  <joint name="femur4" type="revolute">
    <origin rpy="0 0 0" xyz="-0.00601 -0.013082 -0.00675"/>
    <parent link="ax12a_v2_11"/>
    <child link="femur_v3_4"/>
    <axis xyz="0.707107 -0.707107 0.0"/>
    <limit effort="100" lower="-0.523599" upper="4.014257" velocity="100"/>
  </joint>
  <joint name="tibia4" type="revolute">
    <origin rpy="0 0 0" xyz="0.0 0.0 0.09"/>
    <parent link="femur_v3_4"/>
    <child link="ax12a_v2_12"/>
    <axis xyz="-0.707107 0.707107 -0.0"/>
    <limit effort="100" lower="-0.174533" upper="5.148721" velocity="100"/>
  </joint>
  <joint name="Rigid25" type="fixed">
    <origin rpy="0 0 0" xyz="-0.016978 -0.009906 -0.031601"/>
    <parent link="ax12a_v2_12"/>
    <child link="tibia_v3_4"/>
  </joint>
</robot>
